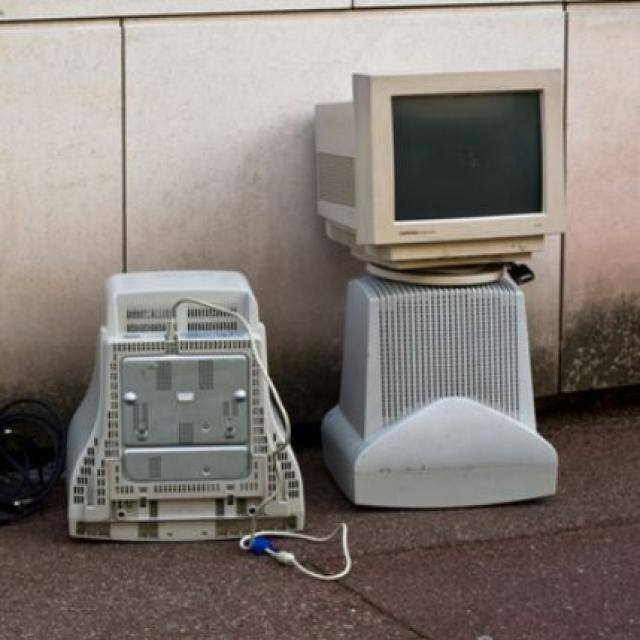electronic: (73, 235, 340, 605), (312, 66, 565, 262)
